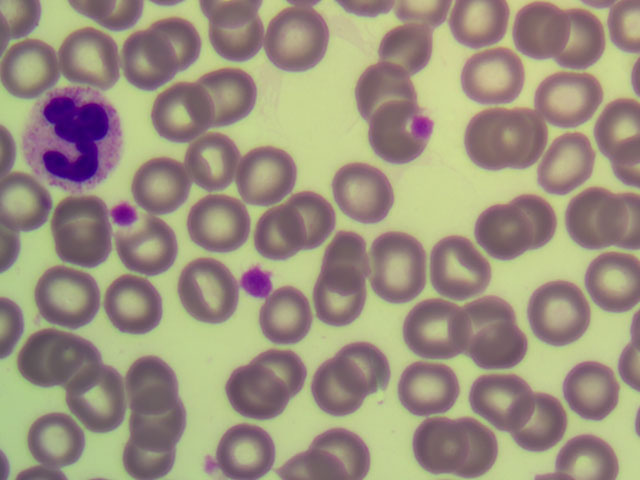Platelets: (241, 263, 272, 294), (110, 197, 135, 228), (411, 112, 433, 133)
RBC: (61, 24, 119, 85), (222, 425, 279, 480), (315, 425, 372, 480), (4, 40, 61, 94), (135, 151, 192, 205), (158, 93, 215, 147), (182, 67, 239, 121), (118, 28, 175, 82), (149, 15, 206, 69), (219, 14, 276, 68), (270, 5, 327, 59), (235, 146, 292, 200), (196, 149, 253, 203), (189, 195, 246, 249), (181, 264, 238, 318), (124, 224, 181, 278), (105, 276, 162, 330), (47, 267, 104, 321), (51, 214, 108, 268), (48, 189, 105, 243), (3, 171, 60, 225), (20, 323, 77, 377), (49, 335, 106, 389), (70, 379, 127, 433), (121, 345, 178, 399), (140, 398, 197, 452), (114, 419, 171, 473), (31, 412, 88, 466), (223, 367, 280, 421), (251, 349, 308, 403), (252, 285, 309, 339), (310, 282, 367, 336), (324, 233, 381, 287), (291, 192, 348, 246), (238, 210, 295, 264), (335, 170, 392, 224), (354, 116, 411, 170), (354, 66, 411, 120), (379, 15, 436, 69), (465, 53, 522, 107), (450, 2, 507, 56), (510, 2, 567, 56), (544, 8, 601, 62), (542, 68, 599, 122), (508, 100, 565, 154), (457, 115, 514, 169), (538, 128, 595, 182), (554, 184, 611, 238), (503, 197, 560, 251), (483, 210, 540, 264), (426, 232, 483, 286), (369, 237, 426, 291), (399, 304, 456, 358), (453, 291, 510, 345), (471, 317, 528, 371), (405, 361, 462, 415), (346, 338, 403, 392), (318, 366, 375, 420), (404, 421, 461, 475), (437, 425, 494, 479), (465, 368, 522, 422), (511, 389, 568, 443), (566, 425, 623, 479), (563, 360, 620, 414), (530, 280, 587, 334), (583, 260, 640, 314), (602, 101, 640, 164)
WBC: (26, 81, 131, 183)
